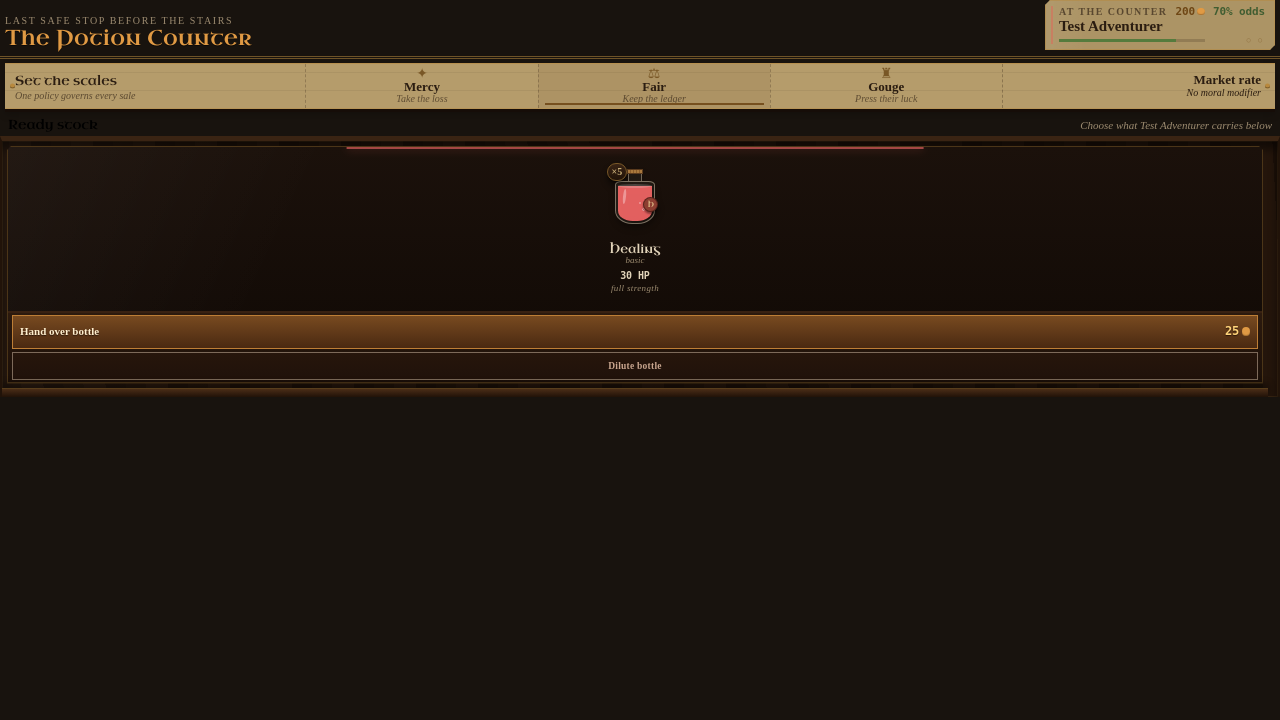
Test case: PotionShopComponent › output events › should open the stillroom without diluting immediately
The width and height of the screenshot is (1280, 720).
Click the button with class "dilute-btn": (635, 366) top-left (12, 352), bottom-right (1258, 380)
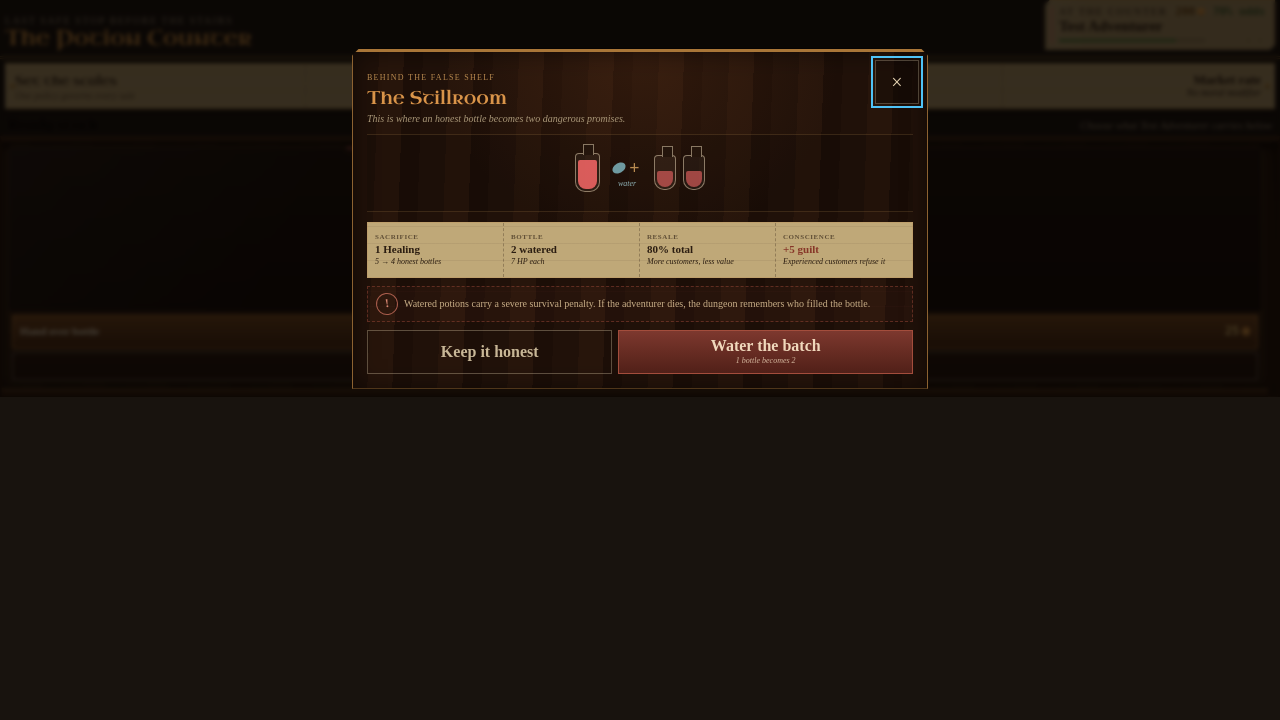
Expected: the dialog with class "dilution-stillroom" is shown, top-left (352, 49), bottom-right (928, 389)
